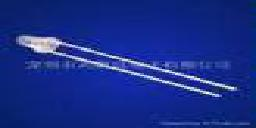LED: (13, 32, 72, 56)
